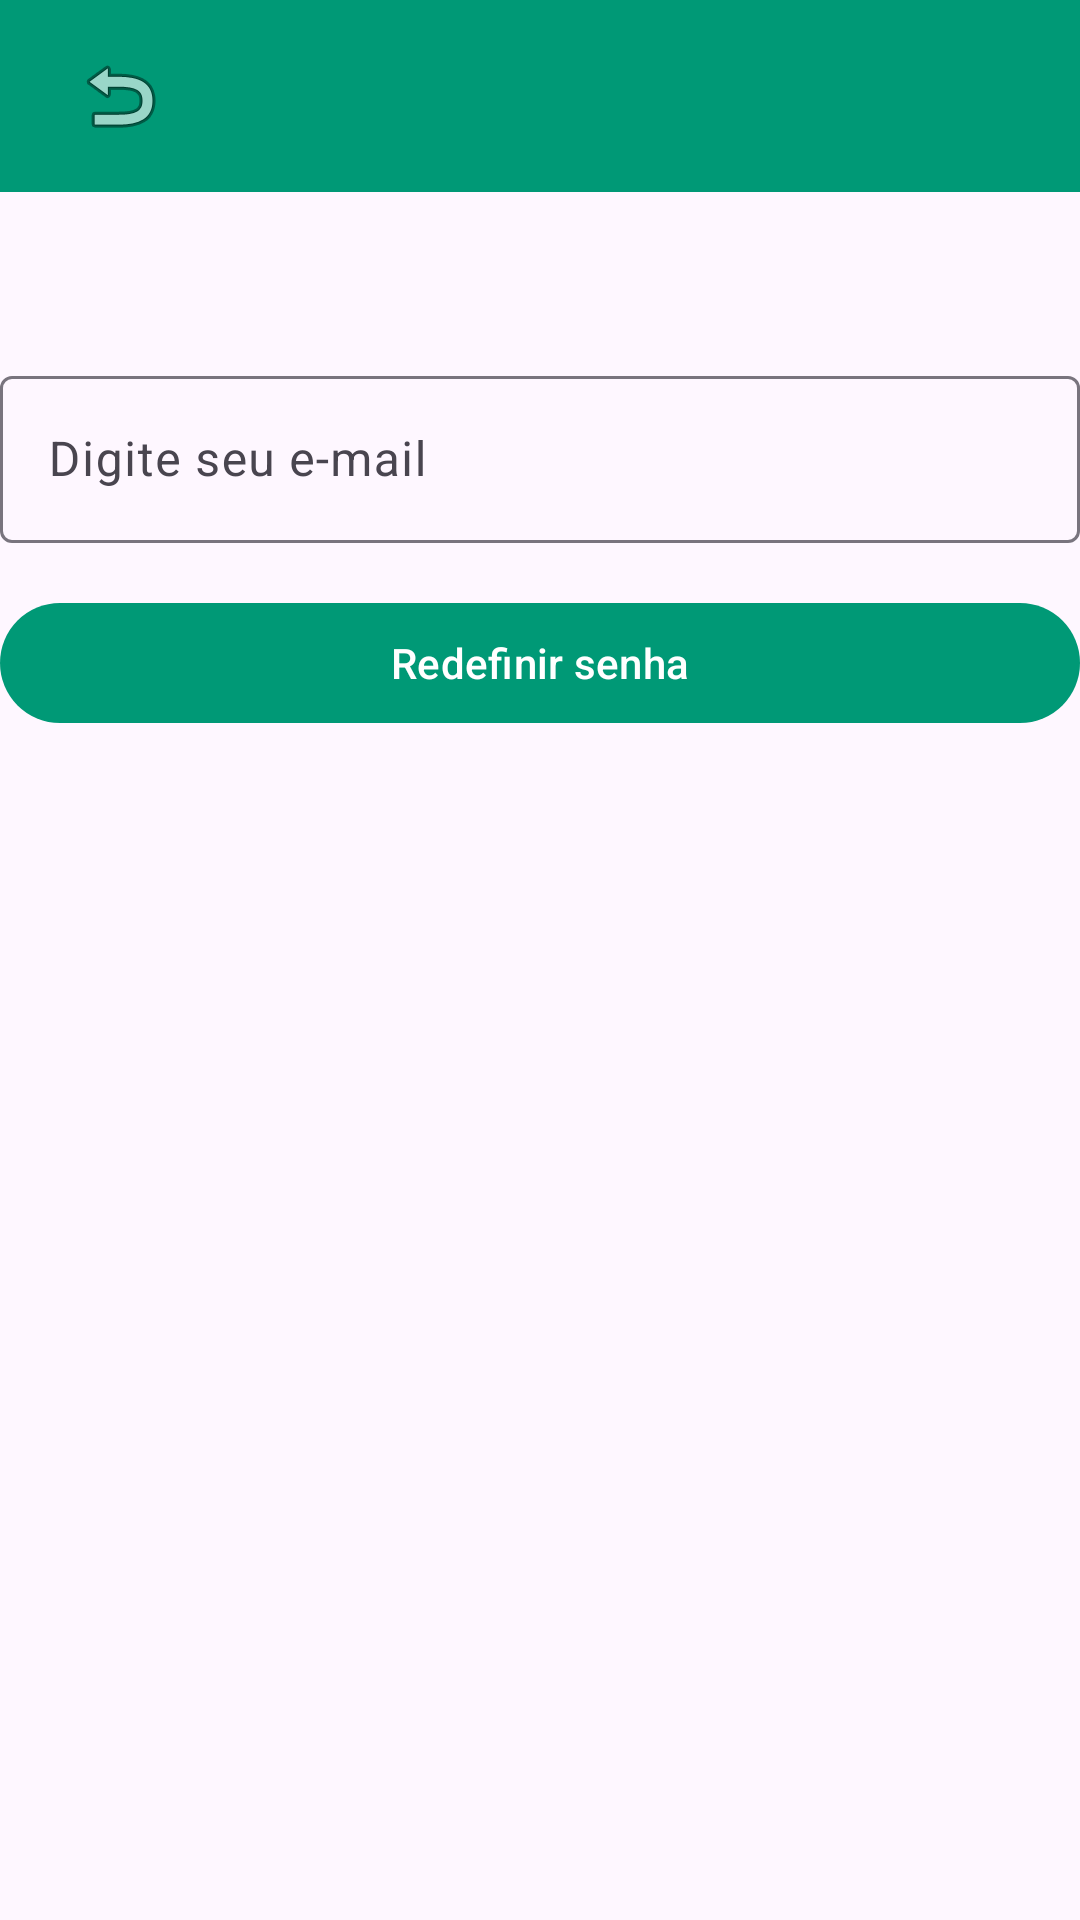

Point at icon controls on the screen. Image size 1080 × 1920, points as point (x, y).
Voltar: point (121, 97)
